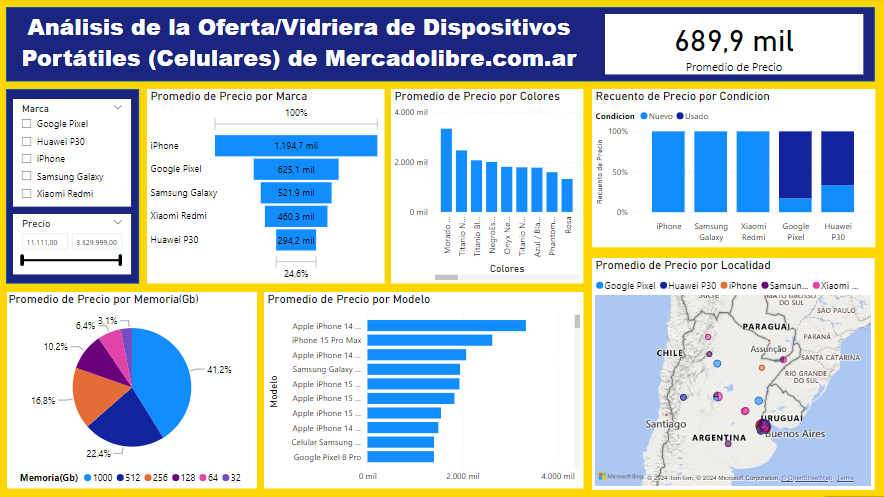

The page's visual inventory and layout, read from the dashboard file:
{"tool":"powerbi","page":{"name":"Gráficos","canvas":[1280,720],"ordinal":1},"visuals":[{"type":"shape","box":[10,12.9,1251.4,107.1],"z":0},{"type":"textbox","box":[10,13.3,843.3,106.7],"z":1000},{"type":"hundredPercentStackedColumnChart","title":"Recuento de Precio por Condicion","fields":{"Category":["testMeLi.Marca"],"Series":["testMeLi.Condicion"],"Y":["Count(testMeLi.Precio)"]},"box":[853.3,131.7,408.3,228.3],"z":2000},{"type":"clusteredBarChart","fields":{"Y":["Avg(testMeLi.Precio)"],"Category":["testMeLi.Modelo"]},"box":[381.7,423.3,460,283.3],"z":3000},{"type":"card","fields":{"Values":["Avg(testMeLi.Precio)"]},"box":[873.3,23.3,371.7,86.7],"z":4000},{"type":"clusteredColumnChart","fields":{"Category":["testMeLi.Colores"],"Y":["Avg(testMeLi.Precio)"]},"box":[565,131.7,276.7,280],"z":5000},{"type":"pieChart","fields":{"Y":["Avg(testMeLi.Precio)"],"Category":["testMeLi.Memoria(Gb)"]},"box":[12,423.3,360,283],"z":6000},{"type":"map","title":"Promedio de Precio por Localidad","fields":{"Y":["testMeLi.Latitud"],"X":["testMeLi.Longitud"],"Size":["Avg(testMeLi.Precio)"],"Series":["testMeLi.Marca"]},"box":[853.3,374,407.4,333.6],"z":7000},{"type":"shape","box":[10,131.7,191.7,280],"z":8000},{"type":"funnel","fields":{"Category":["testMeLi.Marca"],"Y":["Avg(testMeLi.Precio)"]},"box":[213.3,131.7,341.7,280],"z":9000},{"type":"slicer","fields":{"Values":["testMeLi.Marca"]},"box":[20,145,170,155],"z":10000},{"type":"slicer","fields":{"Values":["testMeLi.Precio"]},"box":[20,311.7,170,86.7],"z":11000}]}

Visuals, with their boxes in screenshot pixels (x1, y1, x2, y2), scaled from the page's 1280x720 canvas onto the 884x497 screenshot:
shape: 7,9,871,83
textbox: 7,9,589,83
"Recuento de Precio por Condicion" hundredPercentStackedColumnChart: 589,91,871,248
clusteredBarChart - Avg(testMeLi.Precio) x testMeLi.Modelo: 264,292,581,488
card - Avg(testMeLi.Precio): 603,16,860,76
clusteredColumnChart - testMeLi.Colores x Avg(testMeLi.Precio): 390,91,581,284
pieChart - Avg(testMeLi.Precio) x testMeLi.Memoria(Gb): 8,292,257,488
"Promedio de Precio por Localidad" map: 589,258,871,488
shape: 7,91,139,284
funnel - testMeLi.Marca x Avg(testMeLi.Precio): 147,91,383,284
slicer - testMeLi.Marca: 14,100,131,207
slicer - testMeLi.Precio: 14,215,131,275
